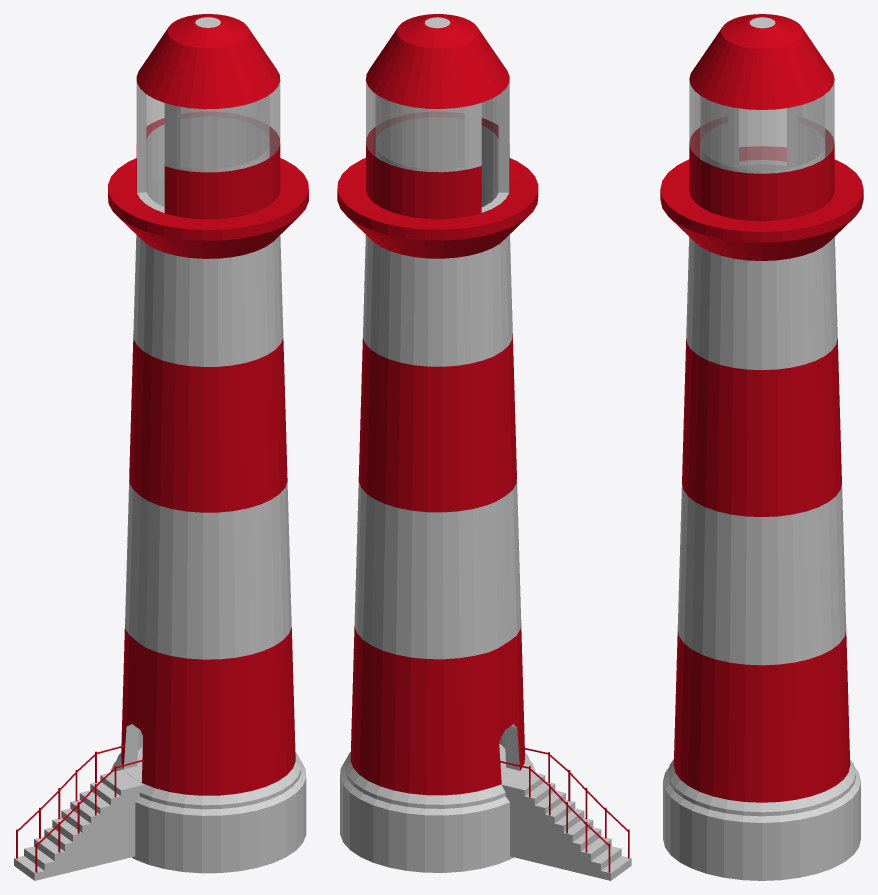
Rendered from LightHouse.fbx.
The picture shows the model from 3 angles, left to right: view 1: azimuth 30°, elevation 25°; view 2: azimuth 150°, elevation 25°; view 3: azimuth 270°, elevation 25°; orthographic projection.
Visible parts, largest first — view 1: Ligthouse; view 2: Ligthouse; view 3: Ligthouse.
Boxes of the visible parts, x1=… form: Ligthouse: x1=14, y1=14, x2=308, y2=880; Ligthouse: x1=337, y1=14, x2=631, y2=880; Ligthouse: x1=660, y1=14, x2=863, y2=880.
Bounding box in the file's own units: 8397 × 23963 × 5407.
